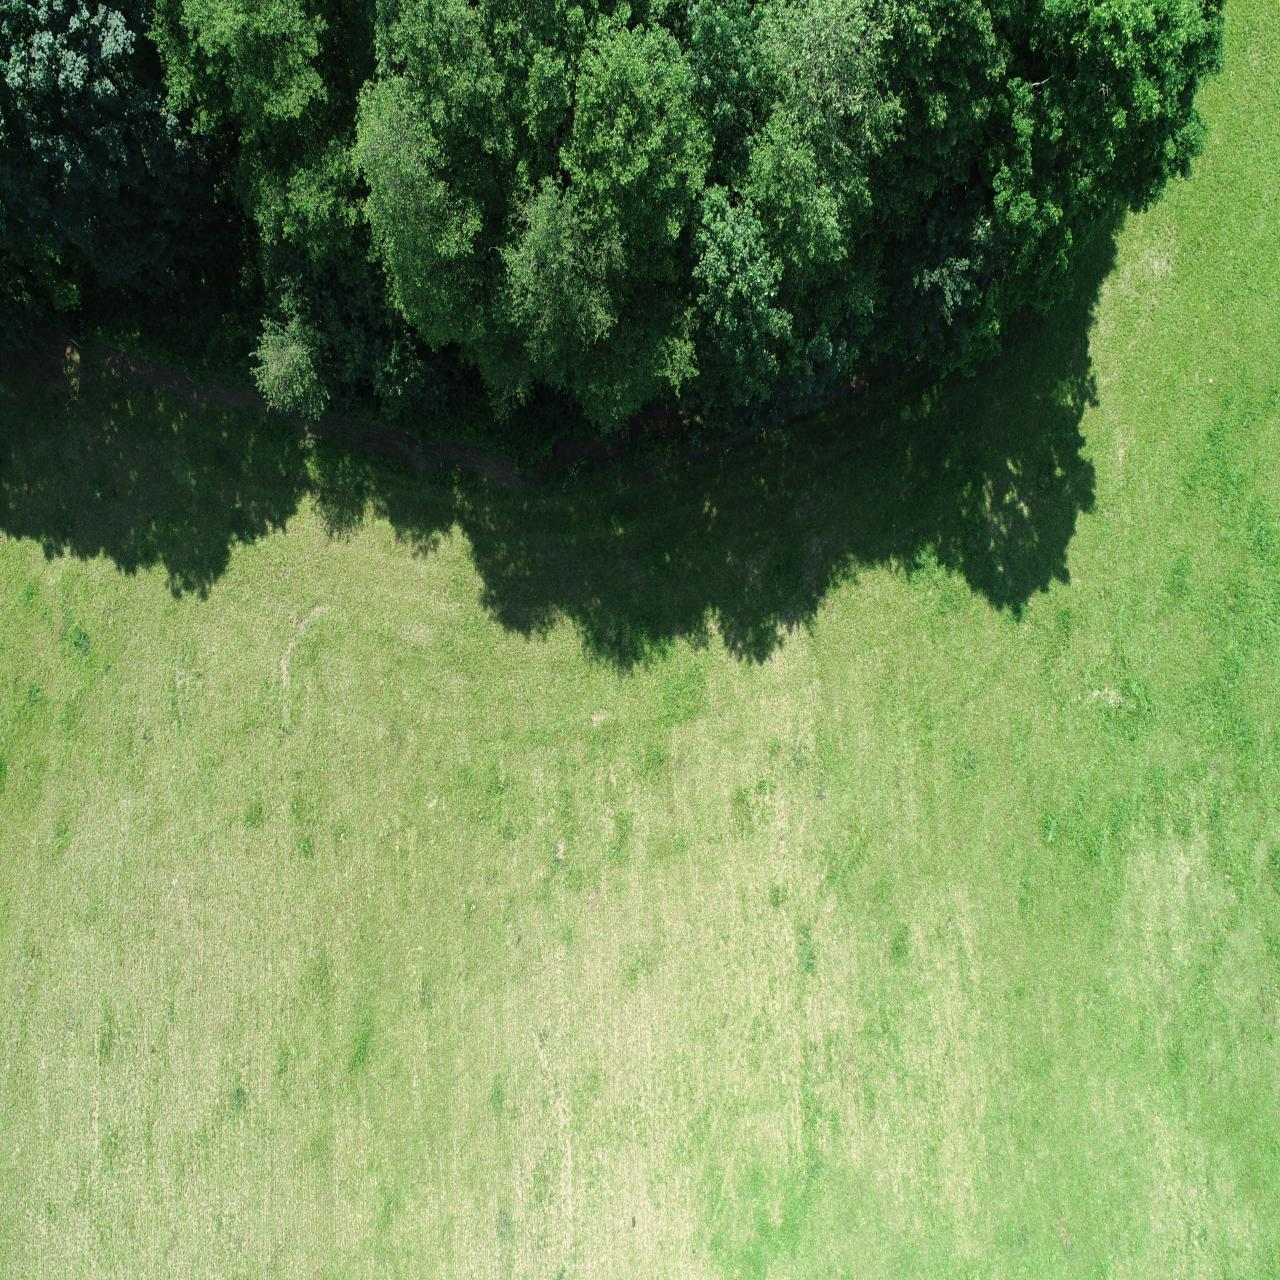cow: (610, 421, 625, 470)
